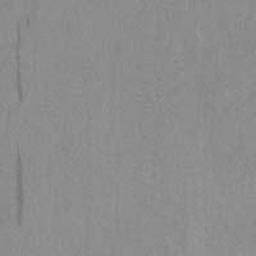Inclusion: (16, 147, 24, 225), (16, 23, 23, 101)
